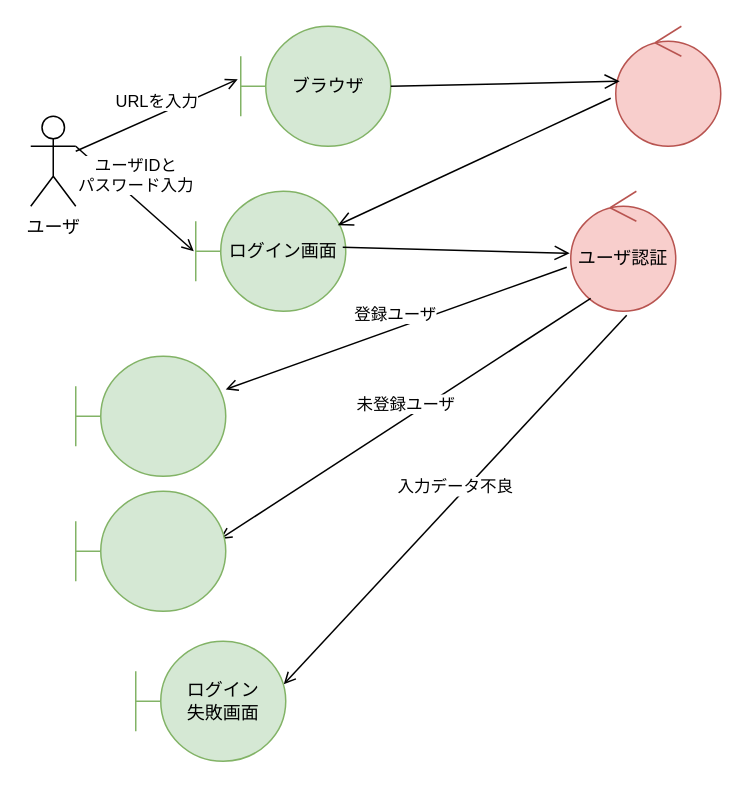
The diagram is 747 pixels wide and 788 high, and some of its shapes have lost their labels. Each missing label, with the box of its shape:
Welcome ページ: (74, 355, 226, 476)
新規登録画面: (74, 490, 226, 611)
